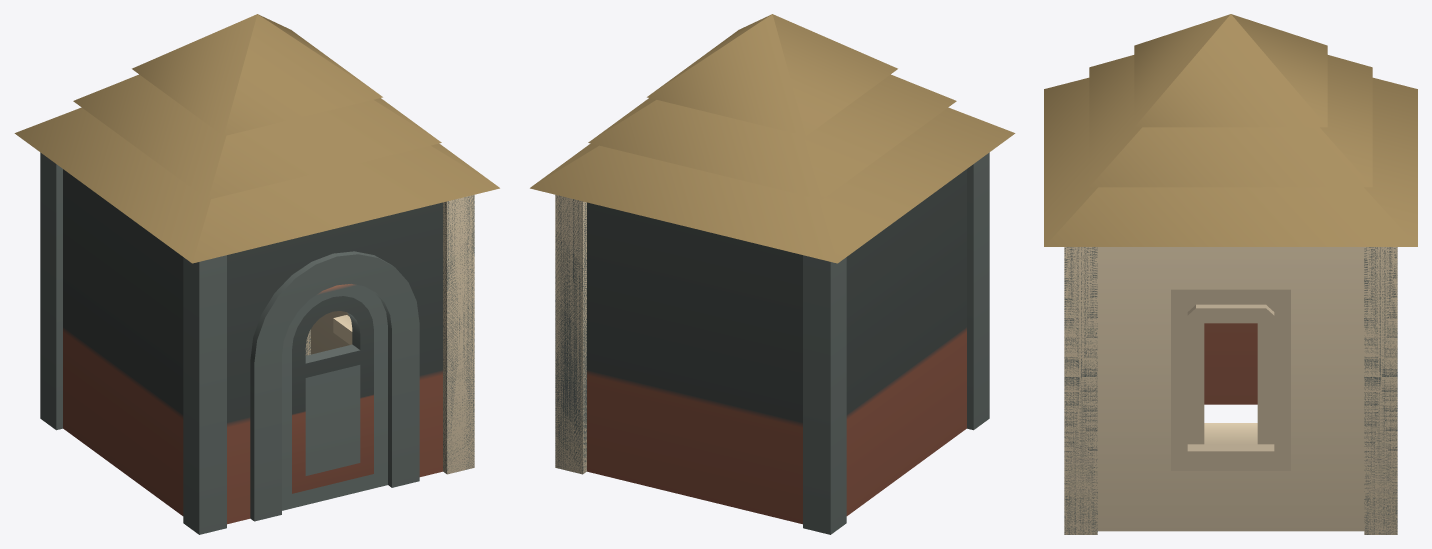
The model's file is home-low-hip.glb.
3 renders of one model, left to right at view 1: azimuth 30°, elevation 25°; view 2: azimuth 150°, elevation 25°; view 3: azimuth 270°, elevation 25°, orthographic. The views are drawn at different scales.
Visible parts, largest first — view 1: Original hip (×3), wall-wood (×2), wall-wood-door, door, wall-wood-window-small; view 2: wall-wood (×2), Original hip (×3), wall-wood-window-small, wall-wood-door; view 3: wall-wood-window-small, Original hip (×3), wall-wood (×2), wall-wood-door.
Part boxes in pixels (bbox=[...]): Original hip (×3): bbox=[14, 14, 499, 263]; wall-wood (×2): bbox=[40, 152, 310, 534]; wall-wood-door: bbox=[183, 195, 474, 534]; door: bbox=[282, 284, 387, 510]; wall-wood-window-small: bbox=[305, 195, 474, 474]; wall-wood (×2): bbox=[555, 152, 989, 534]; Original hip (×3): bbox=[530, 14, 1015, 263]; wall-wood-window-small: bbox=[555, 195, 586, 474]; wall-wood-door: bbox=[967, 154, 989, 429]; wall-wood-window-small: bbox=[1064, 247, 1397, 534]; Original hip (×3): bbox=[1044, 14, 1417, 246]; wall-wood (×2): bbox=[1204, 247, 1397, 534]; wall-wood-door: bbox=[1064, 247, 1097, 534].
Bounding box in the file's own units: 1.12 × 1.49 × 1.12.
Materials: 2 (1 with a texture image).
